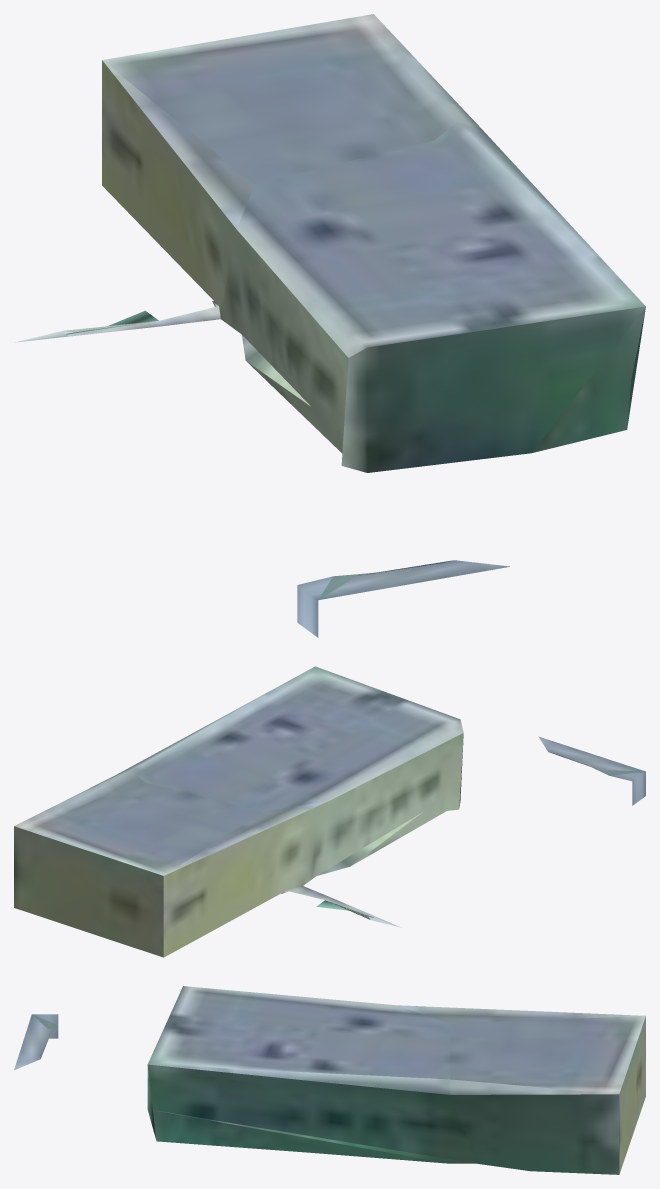
3 renders of one model, top to bottom at view 1: azimuth 30°, elevation 25°; view 2: azimuth 150°, elevation 25°; view 3: azimuth 270°, elevation 25°, orthographic. The views are drawn at different scales.
Parts seen in each view (by area): view 1: 3043627270437061744_0; view 2: 3043627270437061744_0; view 3: 3043627270437061744_0.
Boxes of the visible parts, box(x1,y1,x2,y2) form: 3043627270437061744_0: box(15, 14, 645, 637); 3043627270437061744_0: box(14, 666, 645, 957); 3043627270437061744_0: box(14, 986, 645, 1174).
Bounding box in the file's own units: 13.19 × 4.01 × 21.91.
Materials: 1 (1 with a texture image).
